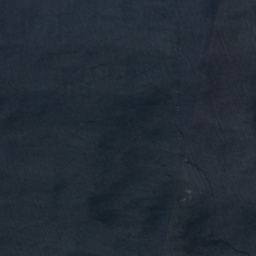Marine Debris: (165, 0, 222, 222)
